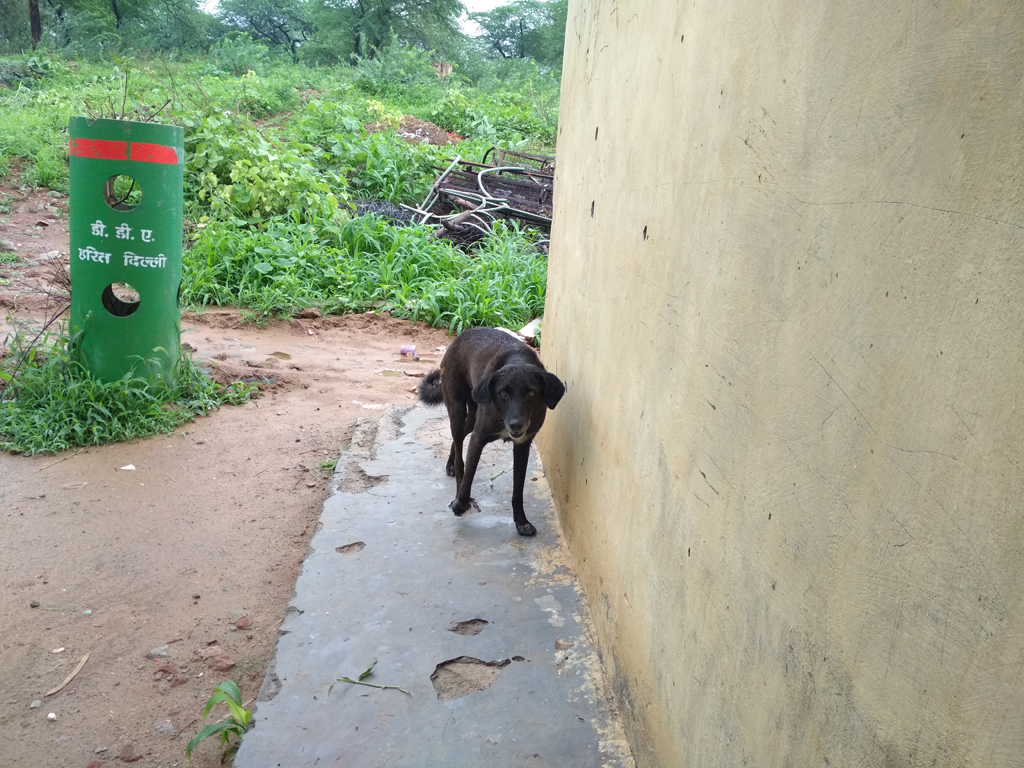dog: (416, 326, 565, 537)
